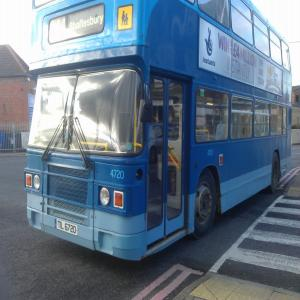Vehicle-registration-plate: (57, 220, 79, 237)
